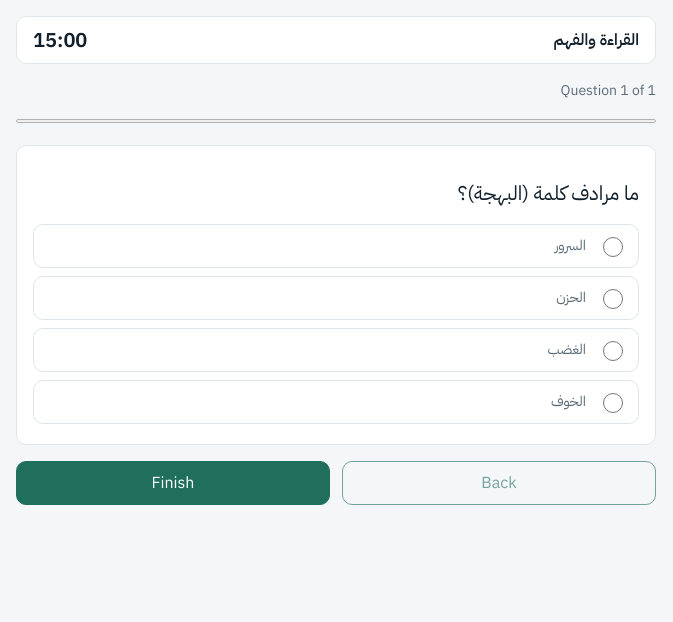
answering › keeps the answer on screen and warns when the save will not go through
The image size is (673, 622).
Click the radio button labelled "السرور" at (613, 247), box [603,237,623,257]
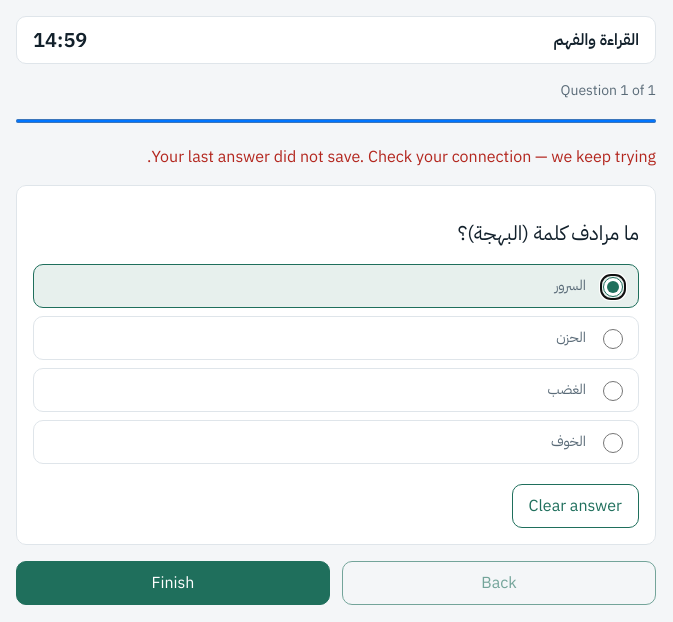
Expected: the radio button labelled "السرور" is checked, [603,277,623,297]
Expected: the message shows "Your last answer did not save.", [147,145,656,169]
